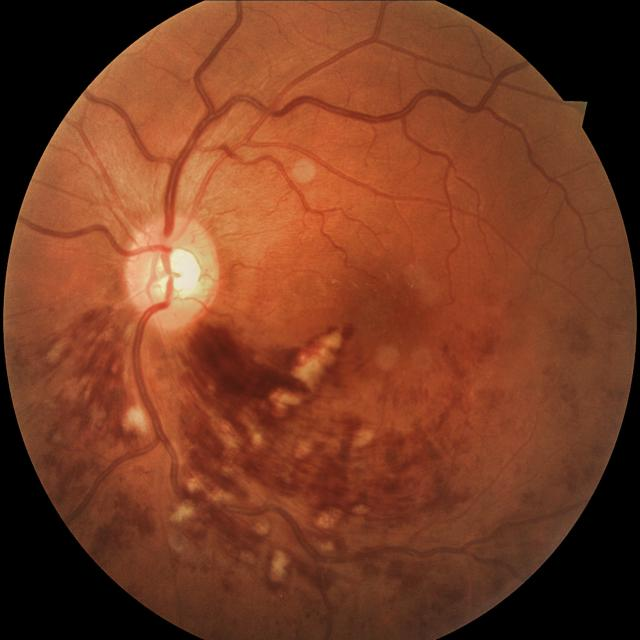OC: (157, 247, 202, 298)
OD: (124, 218, 219, 329)
